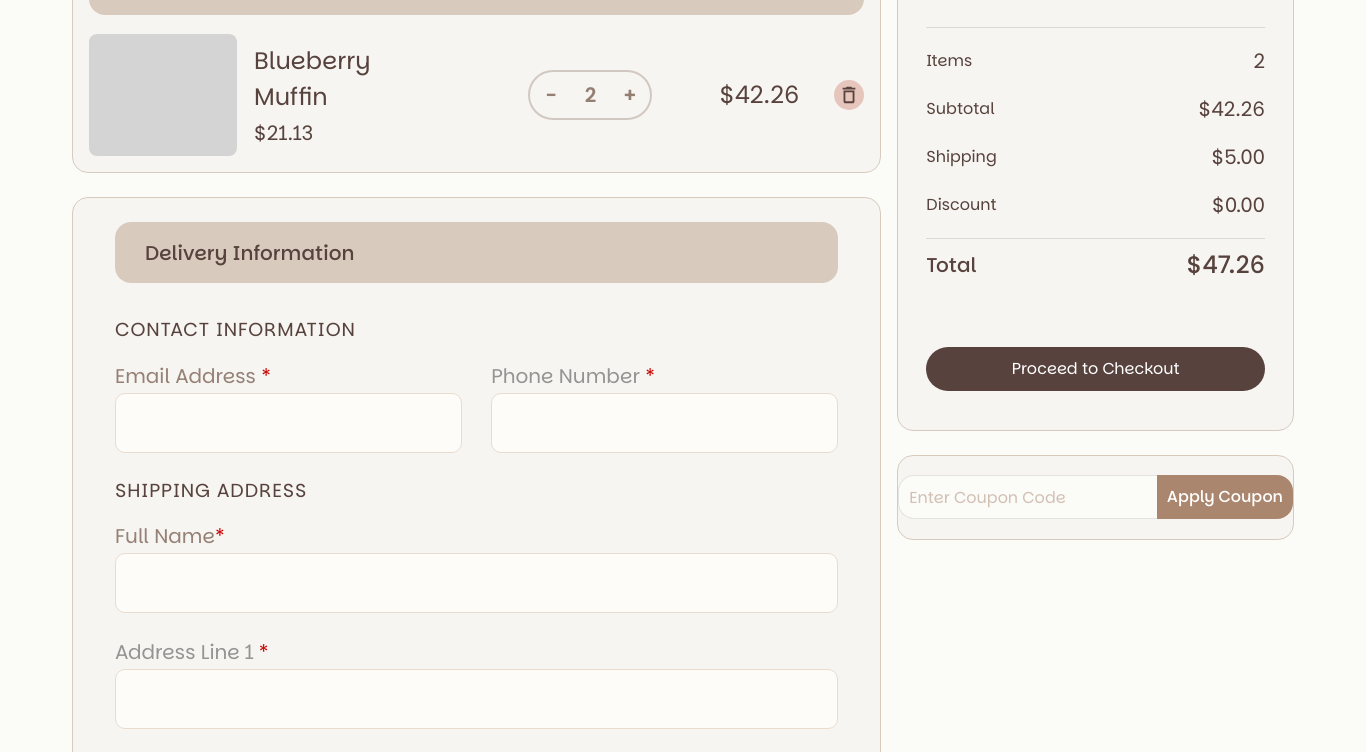
it: Proceed to Checkout › disables the button synchronously on click, before the form is built
(page scrolled)
Click the button "Proceed to Checkout".
click(1096, 369)  # box [926, 347, 1265, 391]
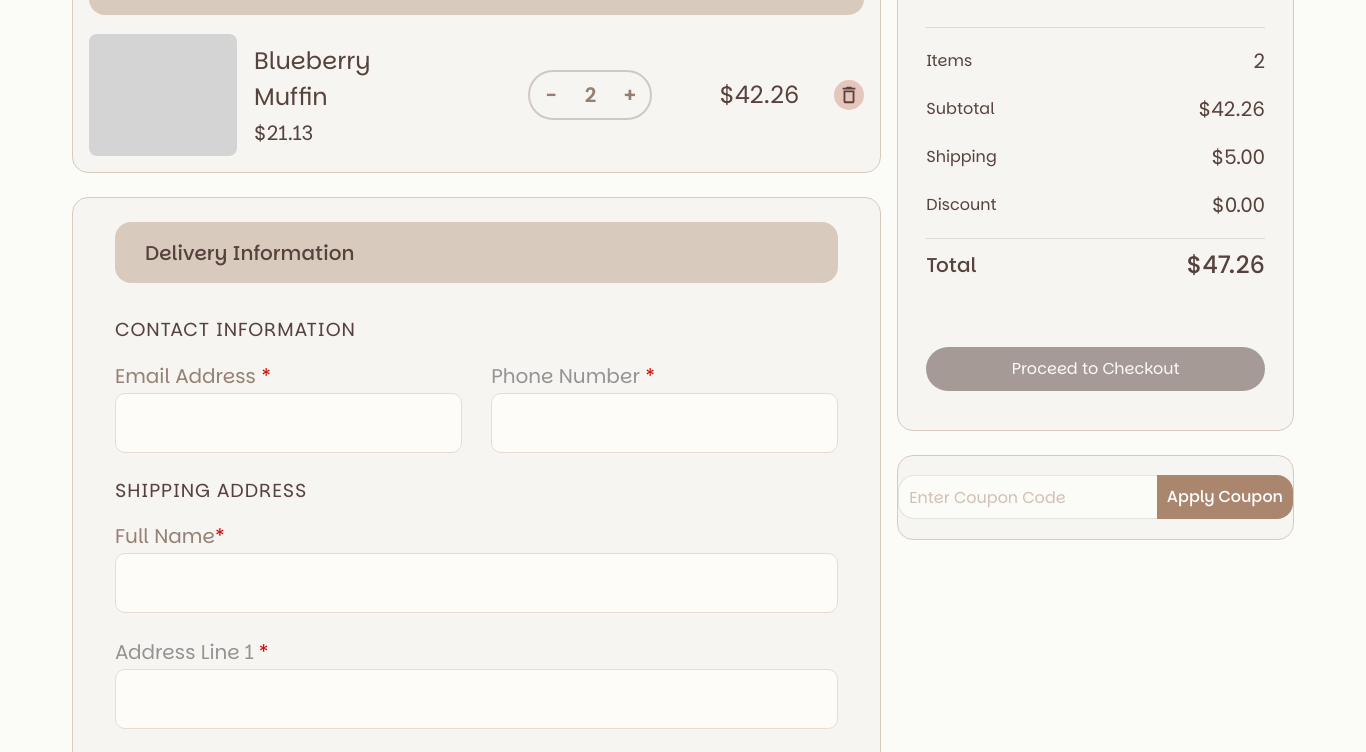
Check: the button "Proceed to Checkout" is disabled, box [926, 347, 1265, 391]
